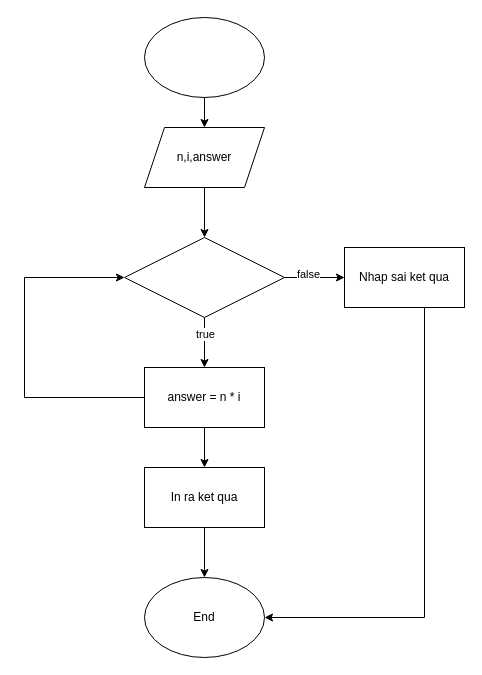
The diagram is 482 pixels wide and 675 high, and some of its shapes have lost their labels. Here are the shapes that lost their labels. From the top down, the centre of each, then its label:
At (204,57): "start".
At (204,277): "1 <= n <= 9 i++".
